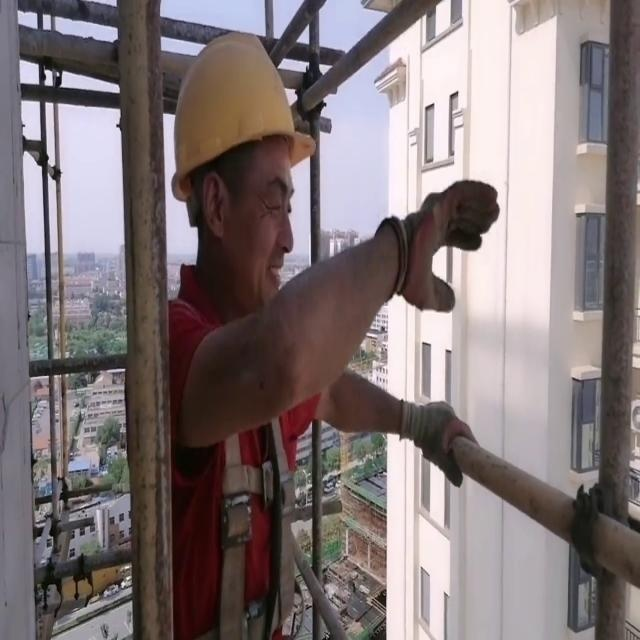Arnes_seguridad: (176, 317, 312, 639)
